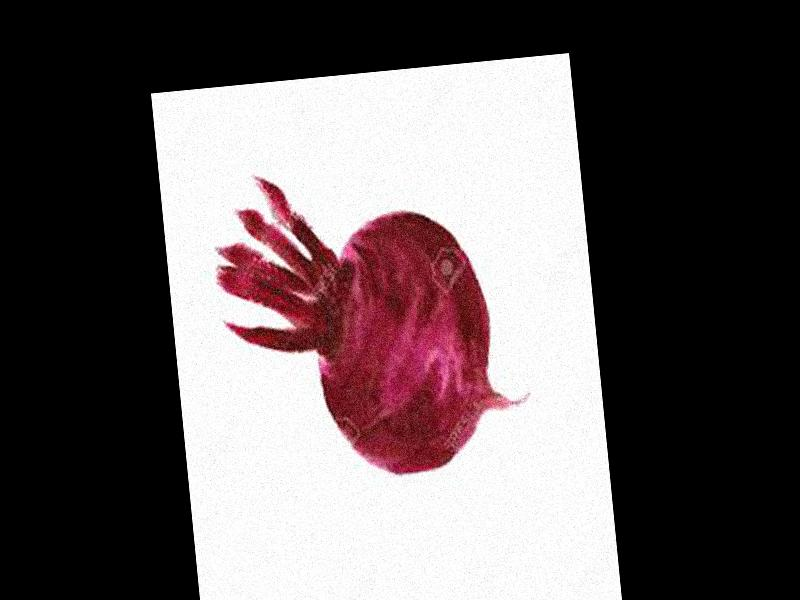Beet: (207, 153, 538, 492)
